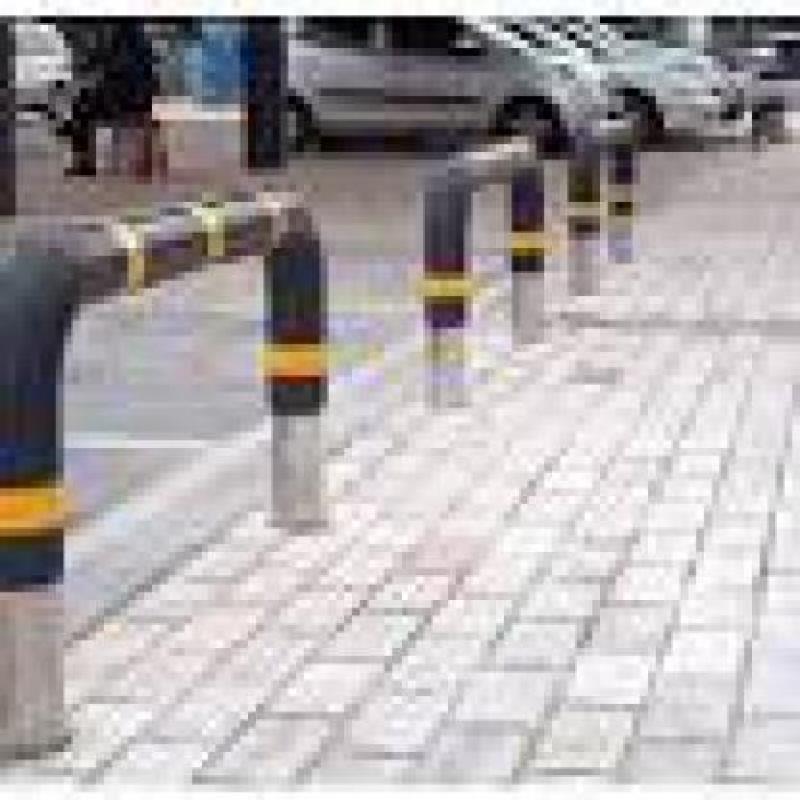bolard: (0, 200, 312, 592), (392, 144, 576, 368), (560, 81, 648, 312)
